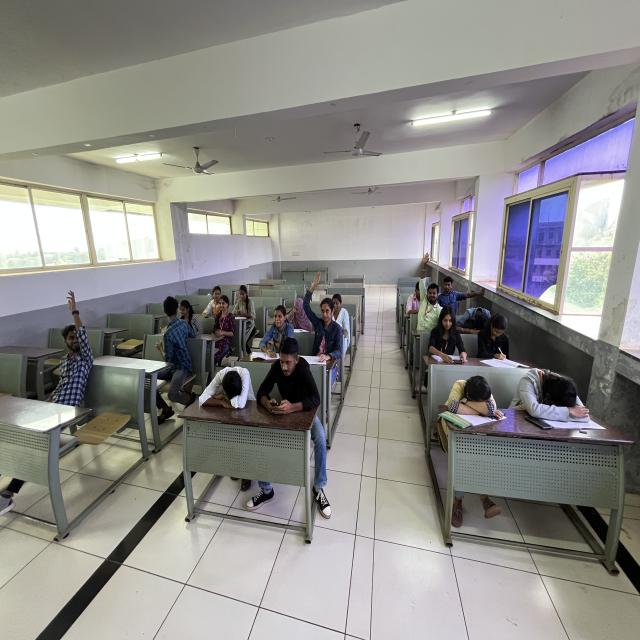Hand Rising: (42, 277, 103, 395), (302, 270, 342, 363), (415, 250, 444, 326)
Sleeping: (514, 348, 602, 422), (199, 351, 255, 419), (434, 368, 502, 416), (453, 296, 492, 332)
Using Phone: (259, 333, 321, 421)
Writing: (481, 311, 534, 366)
